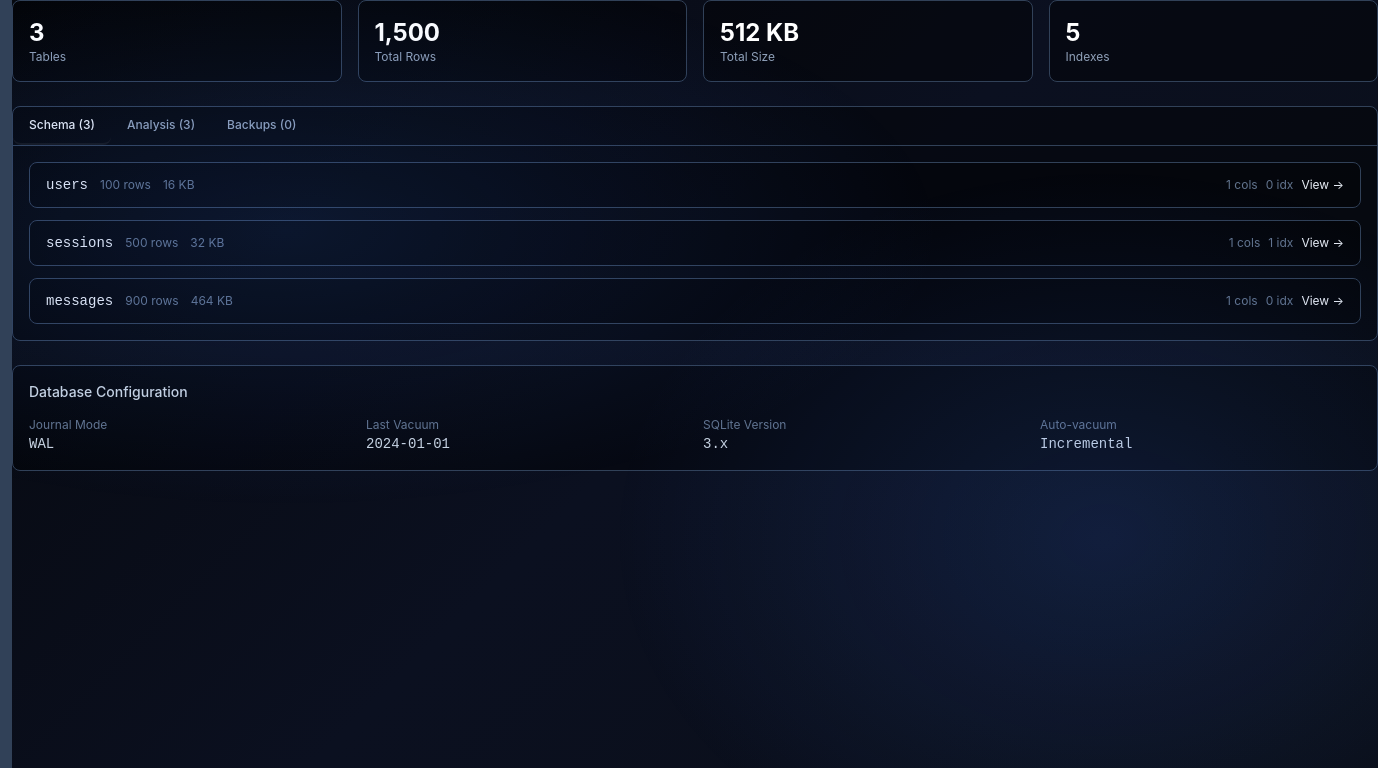
it: DatabasePanel › renders no backups message when empty
The image size is (1378, 768).
Click the button "Backups (0)" at (262, 126), box [211,107,312,145]
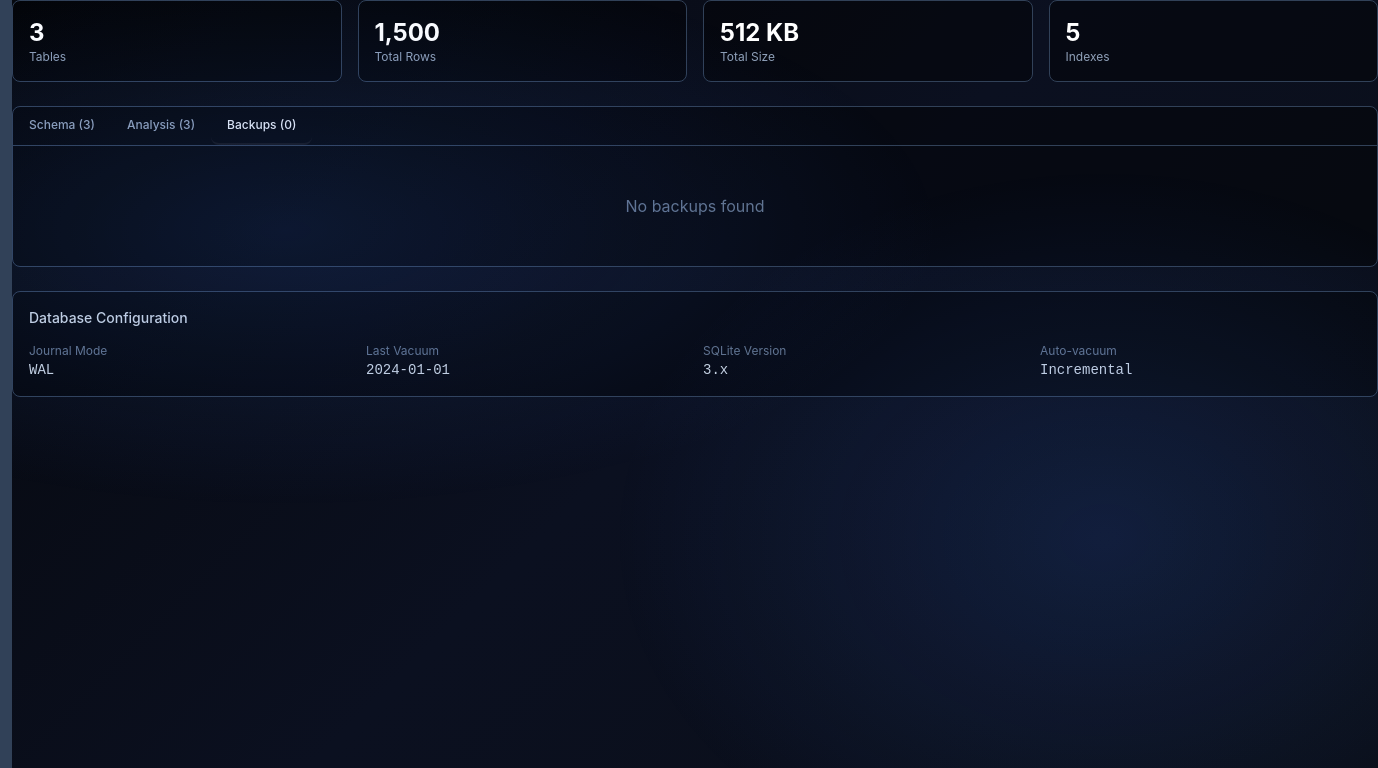
Now the text "No backups found" is shown, box [626,196,764,216]
